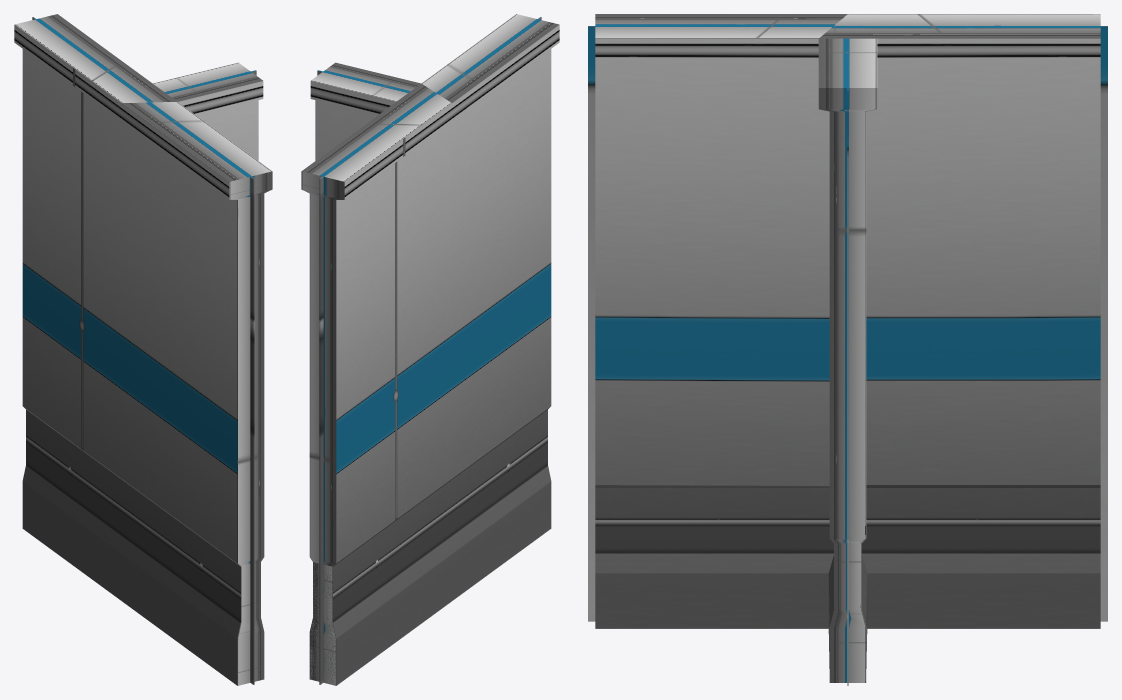
The model's file is TPC_LLU_LM_BB.fbx.
The picture shows the model from 3 angles, left to right: view 1: azimuth 30°, elevation 25°; view 2: azimuth 150°, elevation 25°; view 3: azimuth 270°, elevation 25°; orthographic projection. The views are drawn at different scales.
Parts seen in each view (by area): view 1: TPC_LLU_LM_BB; view 2: TPC_LLU_LM_BB; view 3: TPC_LLU_LM_BB.
Part boxes in pixels (left/top/right/bottom): TPC_LLU_LM_BB: left=14, top=14, right=272, bottom=685; TPC_LLU_LM_BB: left=301, top=14, right=559, bottom=685; TPC_LLU_LM_BB: left=588, top=14, right=1107, bottom=685.
Bounding box in the file's own units: 1.25 × 4.5 × 3.56.
